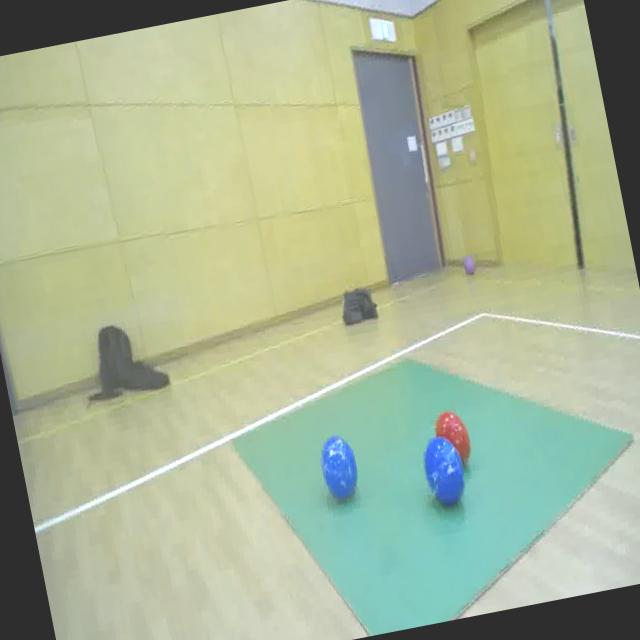blue_ball: (418, 430, 472, 514), (315, 432, 365, 504)
purple_ball: (460, 251, 478, 279)
red_ball: (429, 407, 476, 471)
